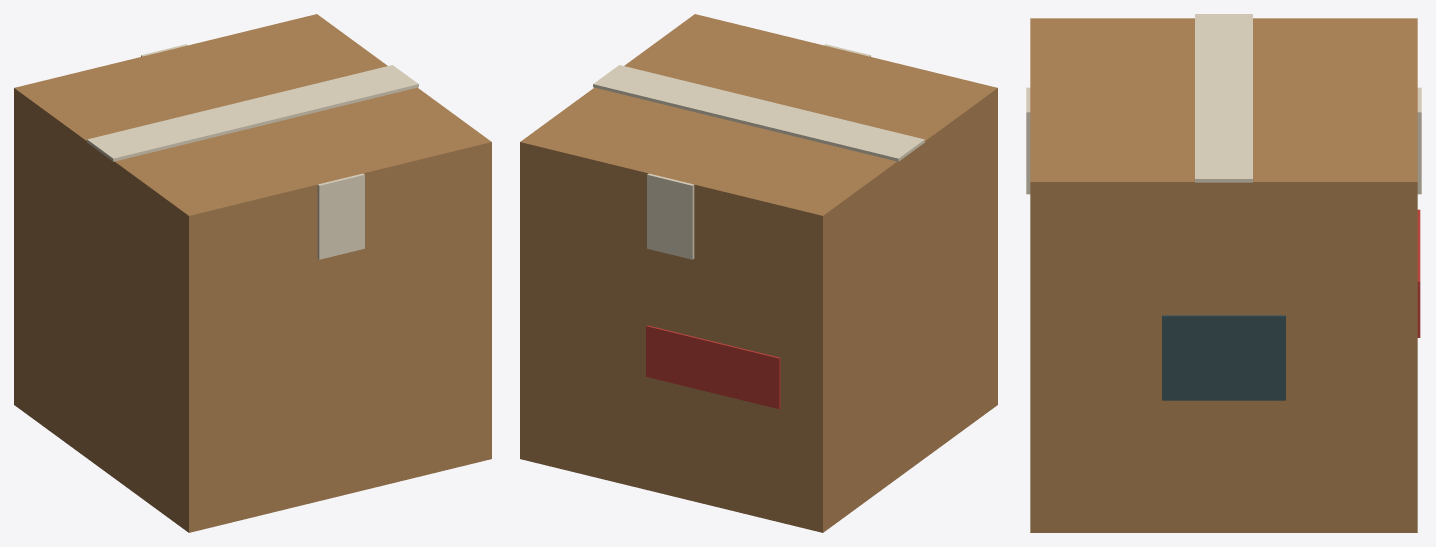
File: SM_PRP_CaixaG.fbx
3 views of the same model, side by side, from view 1: azimuth 30°, elevation 25°; view 2: azimuth 150°, elevation 25°; view 3: azimuth 270°, elevation 25° (orthographic). The views are drawn at different scales.
Parts seen in each view (by area): view 1: SM_PRP_CaixaG; view 2: SM_PRP_CaixaG; view 3: SM_PRP_CaixaG.
Boxes of the visible parts, x1=… form: SM_PRP_CaixaG: x1=14, y1=14, x2=491, y2=532; SM_PRP_CaixaG: x1=520, y1=14, x2=997, y2=532; SM_PRP_CaixaG: x1=1026, y1=14, x2=1421, y2=532.
Bounding box in the file's own units: 0.6065 × 0.606 × 0.612.
